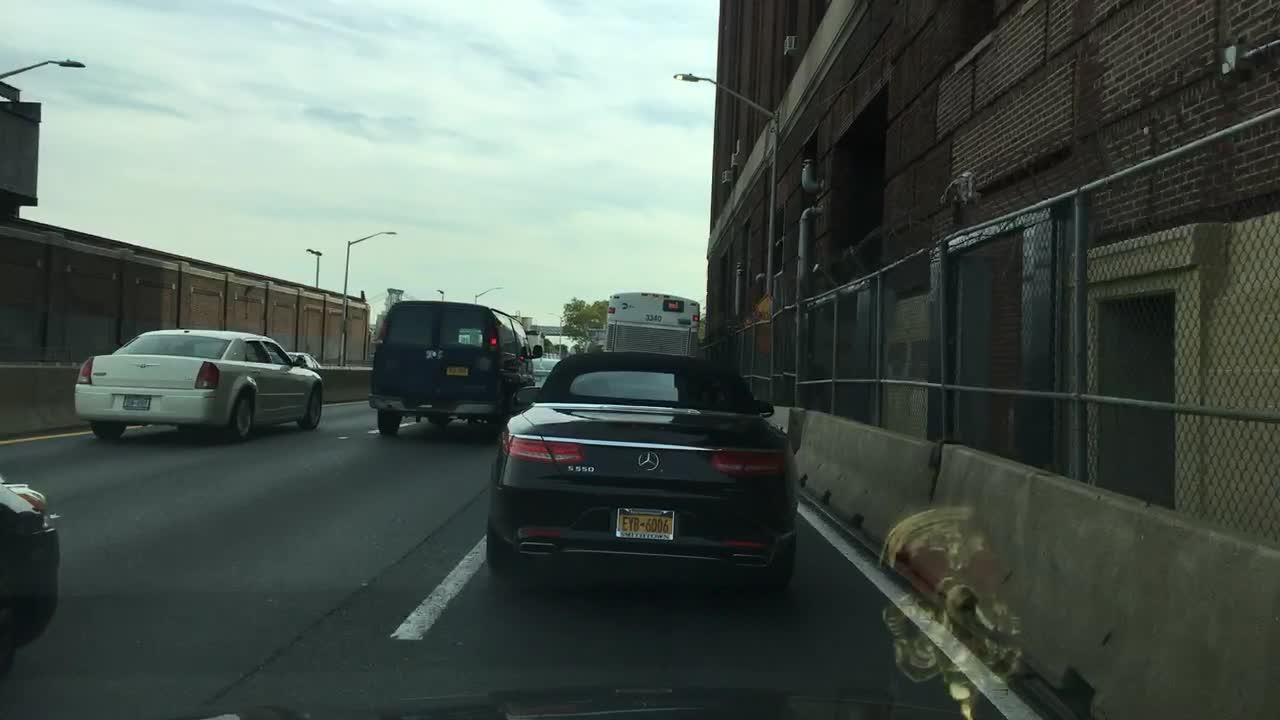Mercedes: (626, 443, 668, 480)
